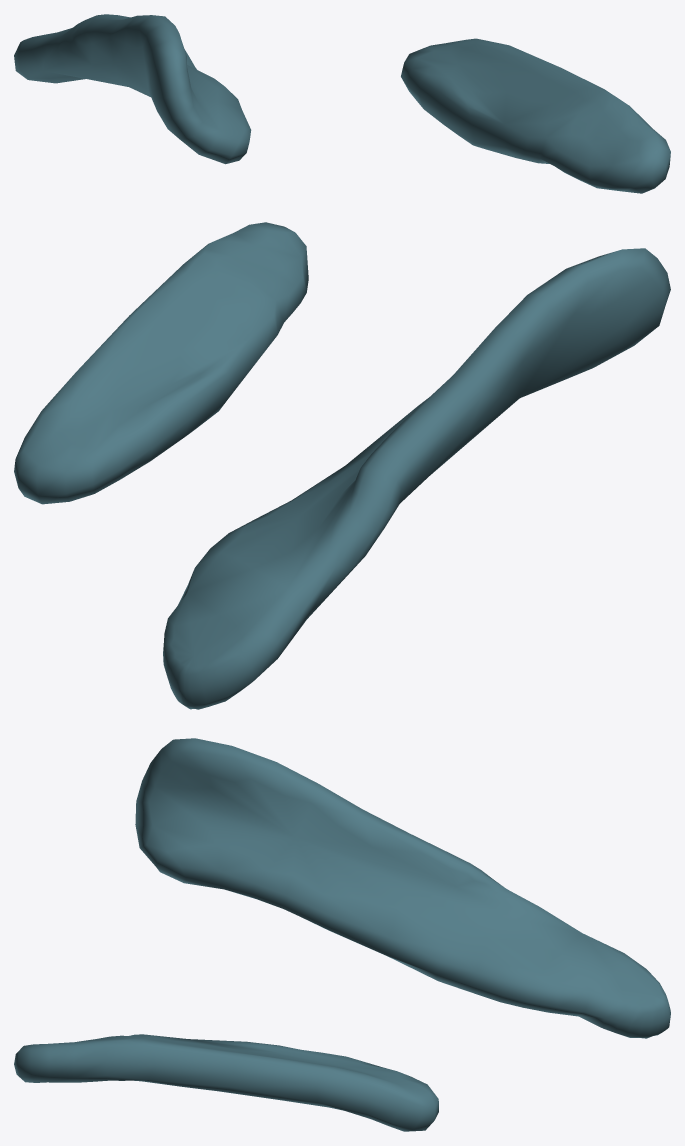
File: Flexor_digitorum_brevis_3rd_medial_phalanx_right.glb
3 renders of one model, top to bottom at view 1: azimuth 30°, elevation 25°; view 2: azimuth 150°, elevation 25°; view 3: azimuth 270°, elevation 25°, orthographic. The views are drawn at different scales.
Visible parts, largest first — view 1: Flexor_digitorum_brevis_on_3d_medial_phalanx.r_Generated_Mes; view 2: Flexor_digitorum_brevis_on_3d_medial_phalanx.r_Generated_Mes; view 3: Flexor_digitorum_brevis_on_3d_medial_phalanx.r_Generated_Mes.
Part boxes in pixels (x1=…): Flexor_digitorum_brevis_on_3d_medial_phalanx.r_Generated_Mes: x1=14, y1=14, x2=670, y2=193; Flexor_digitorum_brevis_on_3d_medial_phalanx.r_Generated_Mes: x1=14, y1=222, x2=670, y2=709; Flexor_digitorum_brevis_on_3d_medial_phalanx.r_Generated_Mes: x1=14, y1=738, x2=670, y2=1131.
Bounding box in the file's own units: 0.00579 × 0.00315 × 0.00798.
